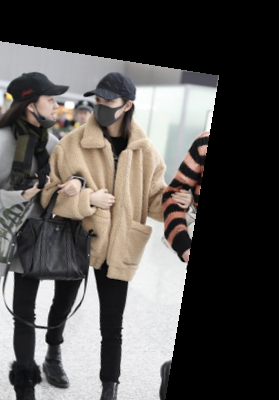mask_weared_incorrect: (4, 72, 73, 133)
